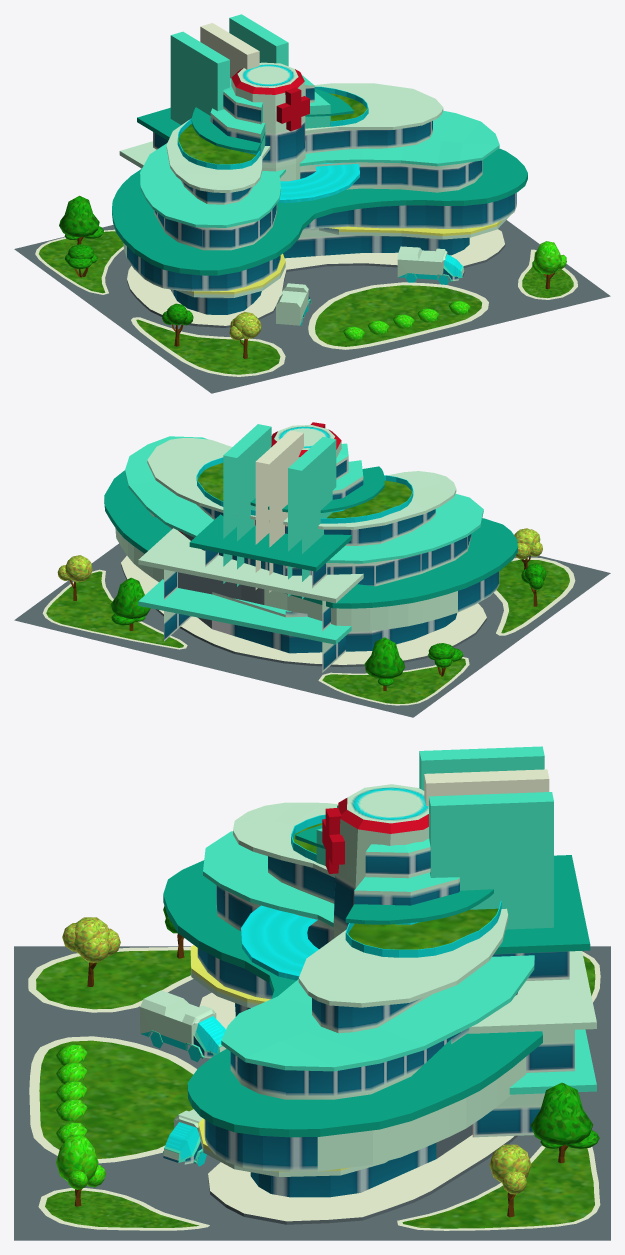
File: hospital_LV3.fbx
The picture shows the model from 3 angles, top to bottom: view 1: azimuth 30°, elevation 25°; view 2: azimuth 150°, elevation 25°; view 3: azimuth 270°, elevation 25°; orthographic projection. The views are drawn at different scales.
Parts seen in each view (by area): view 1: hospital 3; view 2: hospital 3; view 3: hospital 3.
Part boxes in pixels (x1,y1,x2,y2): hospital 3: (14, 14, 610, 393); hospital 3: (14, 422, 610, 717); hospital 3: (14, 746, 610, 1240).
Size of the model in its own units: 140 by 67.46 by 120.
